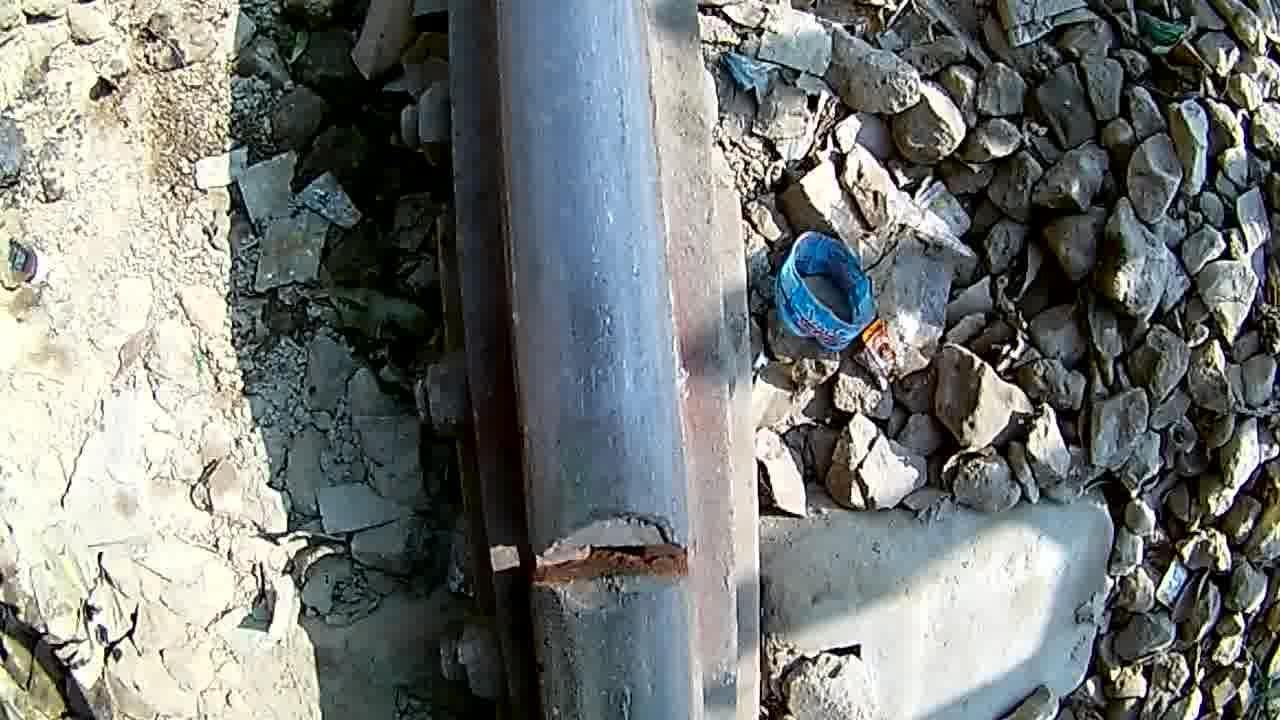crack: (498, 460, 706, 663)
